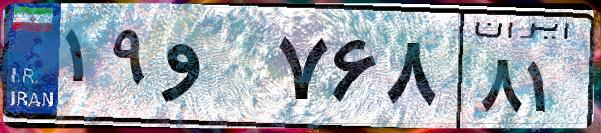1: (57, 26, 110, 100), (525, 38, 570, 115)
6: (330, 28, 385, 110)
7: (270, 28, 330, 110)
8: (385, 28, 445, 110), (475, 38, 525, 113)
9: (110, 28, 158, 98)
و: (158, 20, 270, 120)
